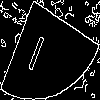I: (25, 25, 51, 72)
